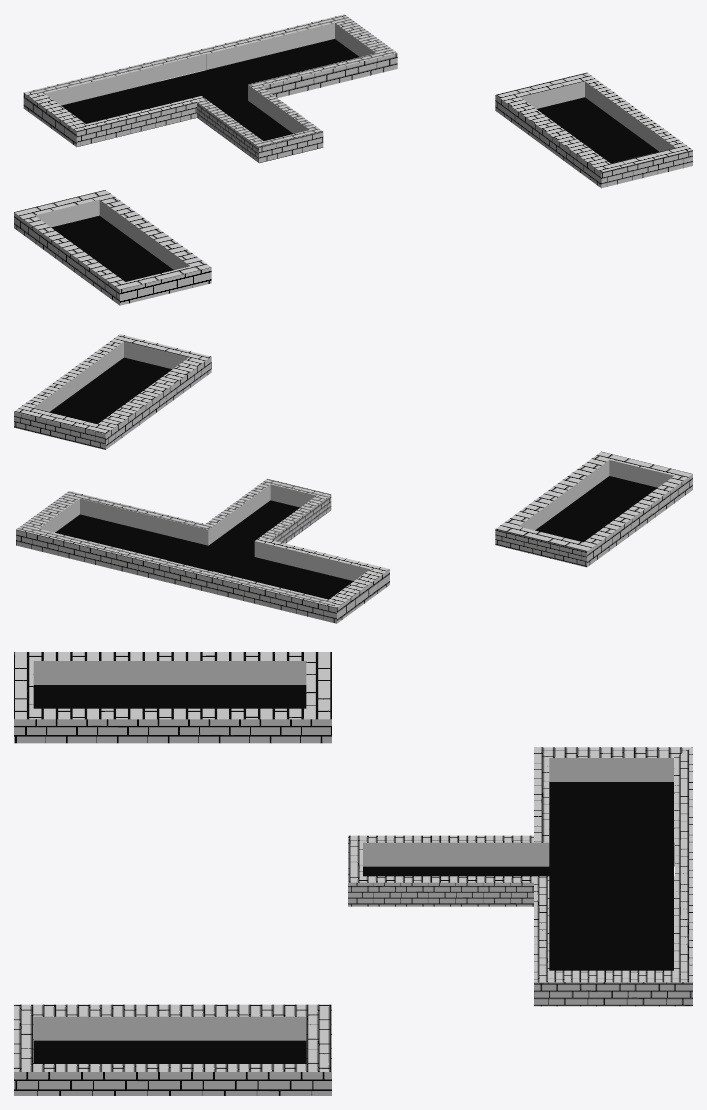
File: splash.obj
3 views of the same model, one above another, from view 1: azimuth 30°, elevation 25°; view 2: azimuth 150°, elevation 25°; view 3: azimuth 270°, elevation 25° (orthographic). The views are drawn at different scales.
Visible parts, largest first — view 1: 立方体.003; view 2: 立方体.003; view 3: 立方体.003.
Boxes of the visible parts, bbox=[...] form: 立方体.003: bbox=[14, 14, 692, 305]; 立方体.003: bbox=[14, 334, 692, 623]; 立方体.003: bbox=[14, 652, 692, 1095].
Size of the model in its own units: 37.5 by 1 by 25.63.
1 material, 1 textured.
